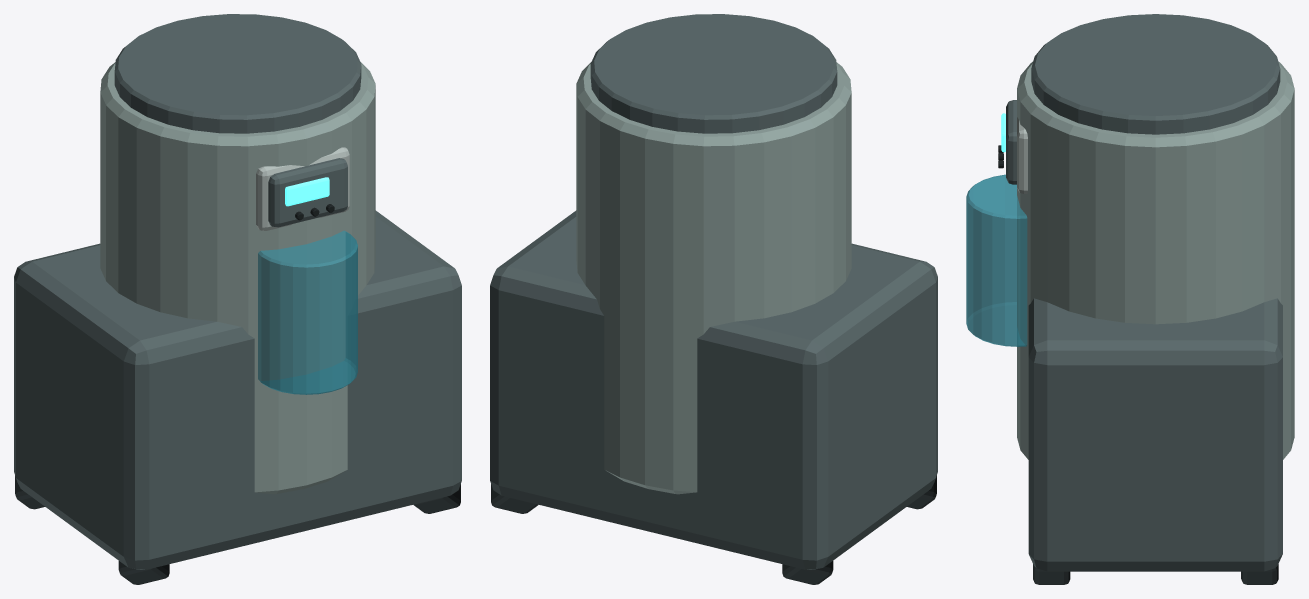
File: 11_nutrient_mixing_reservoir.glb
The picture shows the model from 3 angles, left to right: view 1: azimuth 30°, elevation 25°; view 2: azimuth 150°, elevation 25°; view 3: azimuth 270°, elevation 25°; orthographic projection.
Visible parts, largest first — view 1: 11_nutrient_mixing_reservoir_Chassis, 11_nutrient_mixing_reservoir_Main_Tank, 11_nutrient_mixing_reservoir_Top_Cap, 11_nutrient_mixing_reservoir_Fluid_Window, 11_nutrient_mixing_reservoir_Control_Housing, 11_nutrient_mixing_reservoir_Control_Mounting_Plate, 11_nutrient_mixing_reservoir_Control_Screen, 11_nutrient_mixing_reservoir_Foot_-1_-1, 11_nutrient_mixing_reservoir_Foot_1_-1; view 2: 11_nutrient_mixing_reservoir_Chassis, 11_nutrient_mixing_reservoir_Main_Tank, 11_nutrient_mixing_reservoir_Top_Cap, 11_nutrient_mixing_reservoir_Foot_-1_1, 11_nutrient_mixing_reservoir_Foot_1_1; view 3: 11_nutrient_mixing_reservoir_Chassis, 11_nutrient_mixing_reservoir_Main_Tank, 11_nutrient_mixing_reservoir_Top_Cap, 11_nutrient_mixing_reservoir_Fluid_Window, 11_nutrient_mixing_reservoir_Control_Housing, 11_nutrient_mixing_reservoir_Control_Mounting_Plate, 11_nutrient_mixing_reservoir_Foot_1_1, 11_nutrient_mixing_reservoir_Foot_1_-1.
Part boxes in pixels (bbox=[...]): 11_nutrient_mixing_reservoir_Chassis: bbox=[14, 210, 461, 569]; 11_nutrient_mixing_reservoir_Main_Tank: bbox=[100, 62, 375, 494]; 11_nutrient_mixing_reservoir_Top_Cap: bbox=[114, 14, 361, 133]; 11_nutrient_mixing_reservoir_Fluid_Window: bbox=[258, 230, 357, 394]; 11_nutrient_mixing_reservoir_Control_Housing: bbox=[268, 158, 347, 227]; 11_nutrient_mixing_reservoir_Control_Mounting_Plate: bbox=[256, 147, 349, 230]; 11_nutrient_mixing_reservoir_Control_Screen: bbox=[285, 177, 329, 206]; 11_nutrient_mixing_reservoir_Foot_-1_-1: bbox=[118, 561, 169, 584]; 11_nutrient_mixing_reservoir_Foot_1_-1: bbox=[413, 484, 460, 513]; 11_nutrient_mixing_reservoir_Chassis: bbox=[490, 210, 937, 569]; 11_nutrient_mixing_reservoir_Main_Tank: bbox=[576, 62, 851, 494]; 11_nutrient_mixing_reservoir_Top_Cap: bbox=[590, 14, 837, 133]; 11_nutrient_mixing_reservoir_Foot_-1_1: bbox=[782, 561, 833, 584]; 11_nutrient_mixing_reservoir_Foot_1_1: bbox=[491, 484, 538, 513]; 11_nutrient_mixing_reservoir_Chassis: bbox=[1028, 298, 1282, 571]; 11_nutrient_mixing_reservoir_Main_Tank: bbox=[1017, 61, 1294, 459]; 11_nutrient_mixing_reservoir_Top_Cap: bbox=[1031, 14, 1280, 134]; 11_nutrient_mixing_reservoir_Fluid_Window: bbox=[966, 174, 1027, 346]; 11_nutrient_mixing_reservoir_Control_Housing: bbox=[1006, 100, 1016, 184]; 11_nutrient_mixing_reservoir_Control_Mounting_Plate: bbox=[1017, 117, 1027, 193]; 11_nutrient_mixing_reservoir_Foot_1_1: bbox=[1241, 564, 1278, 584]; 11_nutrient_mixing_reservoir_Foot_1_-1: bbox=[1033, 564, 1070, 584].
Size of the model in its own units: 1.35 by 1.68 by 1.13.
